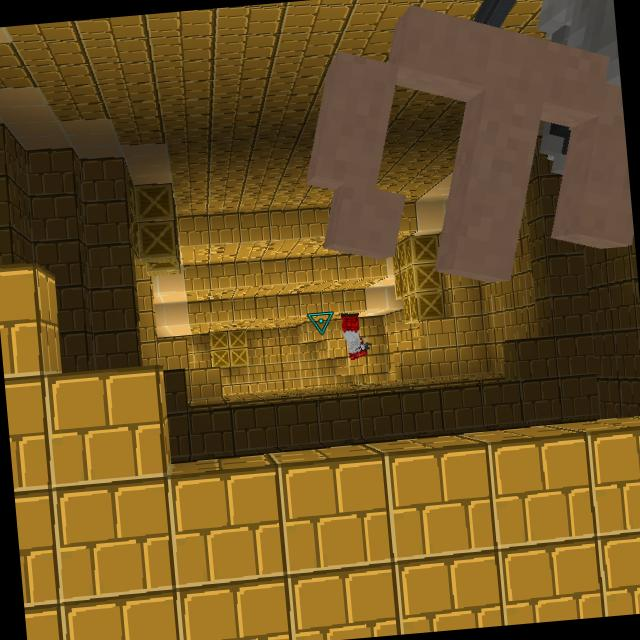enemy: (340, 312, 370, 361)
